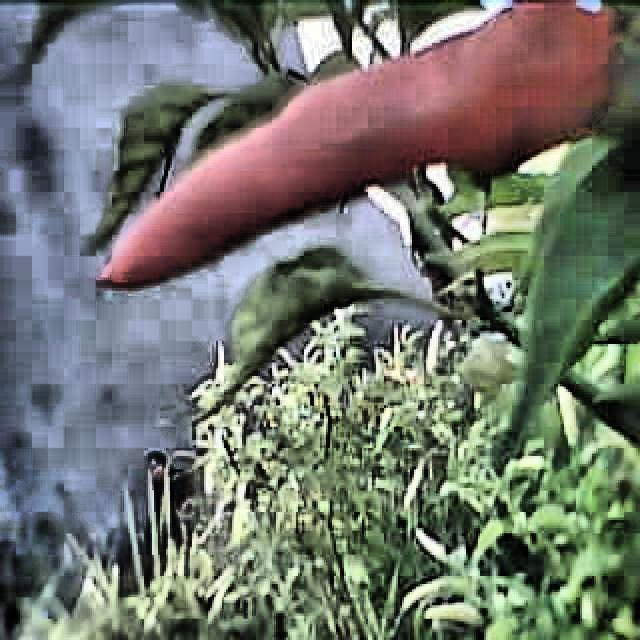Cabai: (90, 0, 631, 241)
